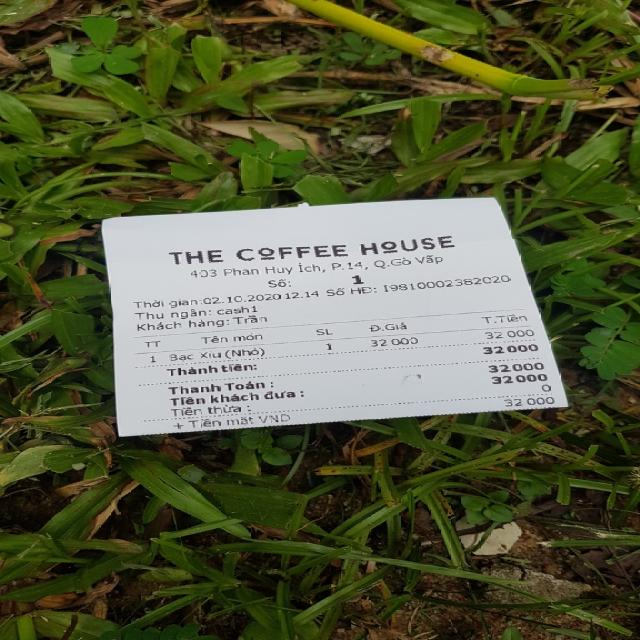Date: (202, 294, 285, 303)
Store_Name: (160, 230, 462, 265)
amount_number: (478, 342, 542, 355)
label_total: (163, 362, 256, 378)
